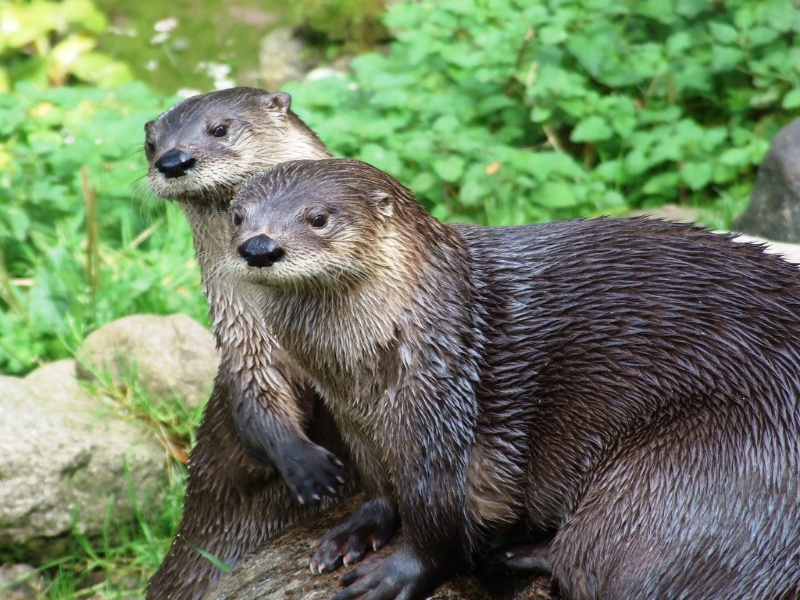minkish: (233, 161, 800, 584), (139, 84, 356, 571)
